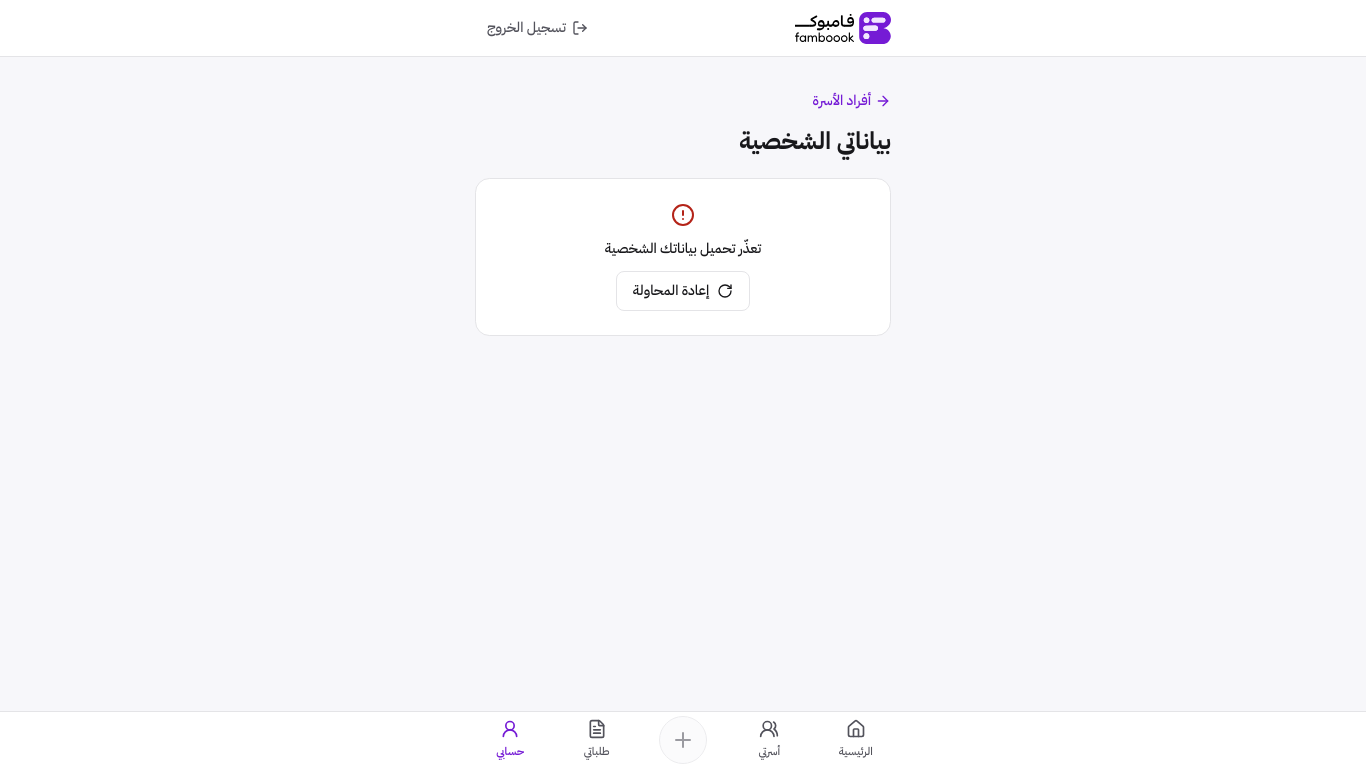
Test: loading and errors › shows an inline error with a retry for a server failure
Expected: the message reads "تعذّر تحميل بياناتك الشخصية", [605,238,761,259]
Step 1. Click the button "إعادة المحاولة" → click(683, 291), box [616,271,750,311]
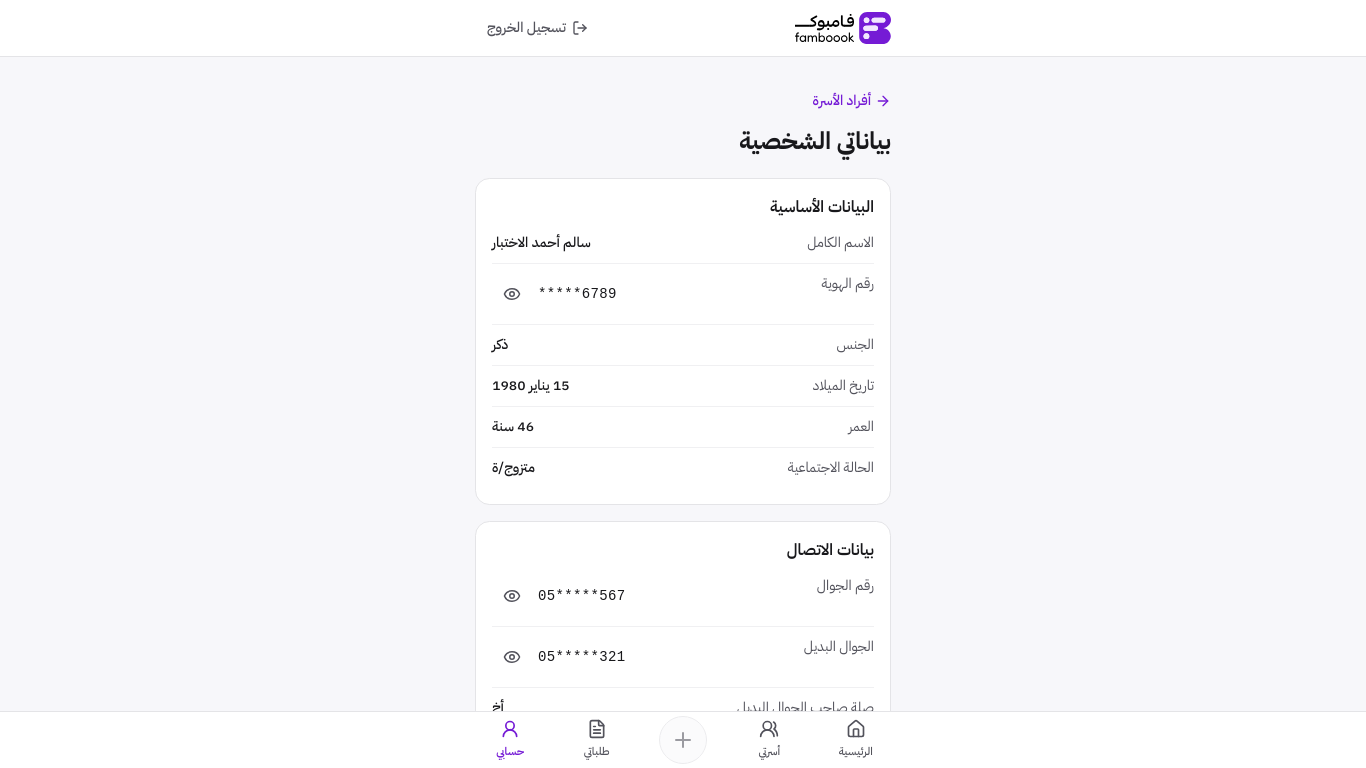
Expected: the heading "البيانات الأساسية" is shown, [770,195,874,219]
